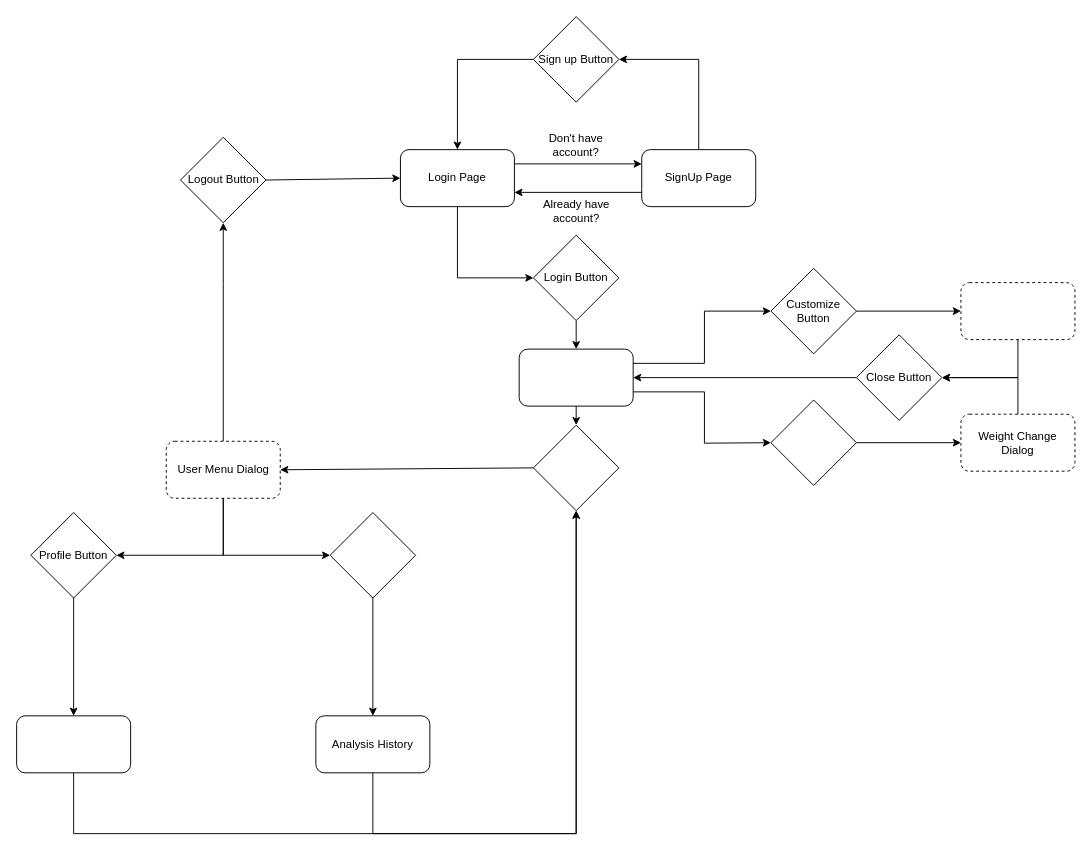
Image size: 1092x858. Some labels were removed from this diagram. Each missing label, with the centre of its shape:
"Avatar Button" goes at point (575, 467).
"Customize Framework Dialog" goes at point (1017, 311).
"History Button" goes at point (372, 555).
"Main Page" goes at point (575, 377).
"User Profile" goes at point (73, 744).
"Weight Button" goes at point (813, 442).
